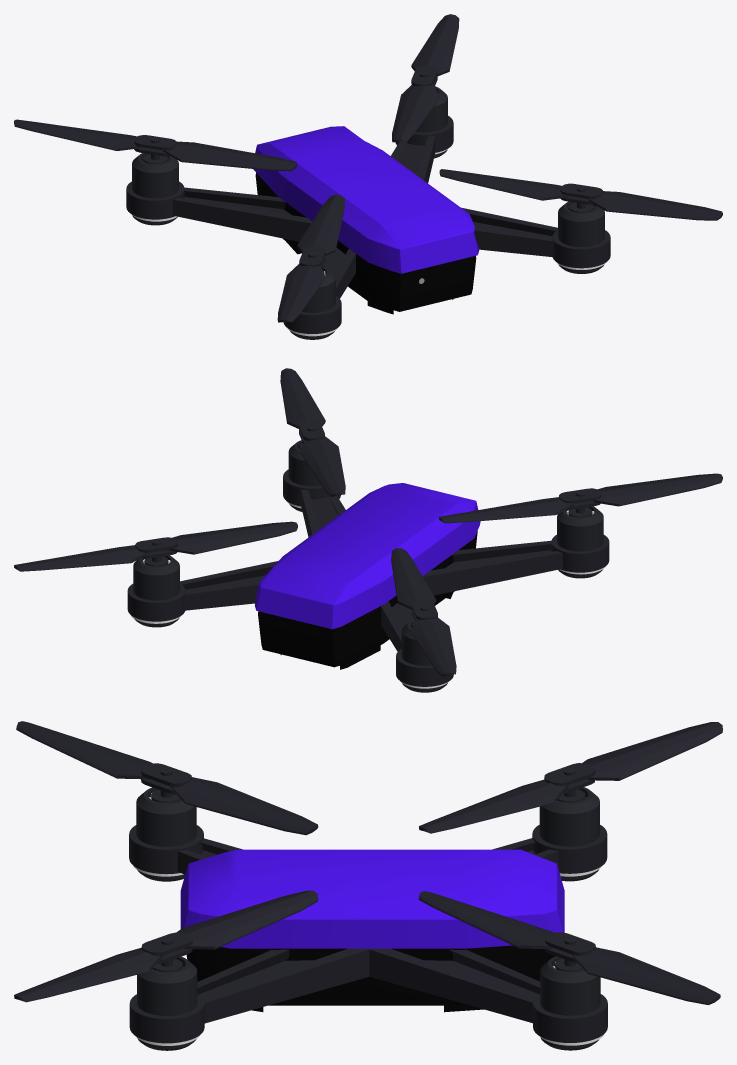
Rendered from drone.dae.
3 views of the same model, one above another, from view 1: azimuth 30°, elevation 25°; view 2: azimuth 150°, elevation 25°; view 3: azimuth 270°, elevation 25° (orthographic). The views are drawn at different scales.
Visible parts, largest first — view 1: Top, Cube.6 (×4), Wing_1.1 (×4), Wing_1.2 (×4), Motor (×4), Base, Tube (×4); view 2: Top, Cube.6 (×4), Wing_1.1 (×4), Wing_1.2 (×4), Motor (×4), Base, Tube (×4); view 3: Top, Cube.6 (×4), Wing_1.1 (×4), Wing_1.2 (×4), Motor (×4), Tube (×4), Base, Halterung (×4).
Boxes of the visible parts, x1,y1,x2,y2 form: Top: (253, 126, 479, 273); Cube.6 (×4): (173, 135, 557, 298); Wing_1.1 (×4): (14, 14, 722, 322); Wing_1.2 (×4): (163, 84, 568, 255); Motor (×4): (132, 86, 604, 339); Base: (255, 172, 476, 314); Tube (×4): (126, 116, 610, 333); Top: (255, 483, 480, 629); Cube.6 (×4): (180, 489, 562, 651); Wing_1.1 (×4): (14, 368, 722, 676); Wing_1.2 (×4): (169, 436, 573, 609); Motor (×4): (133, 440, 603, 692); Base: (258, 531, 477, 669); Tube (×4): (127, 469, 609, 686); Top: (180, 849, 564, 948); Cube.6 (×4): (177, 838, 558, 1023); Wing_1.1 (×4): (14, 721, 722, 1004); Wing_1.2 (×4): (170, 777, 568, 949); Motor (×4): (136, 787, 600, 1050); Tube (×4): (129, 825, 607, 1043); Base: (186, 945, 555, 1012); Halterung (×4): (141, 763, 595, 955).
Size of the model in its own units: 468 by 102 by 501.
